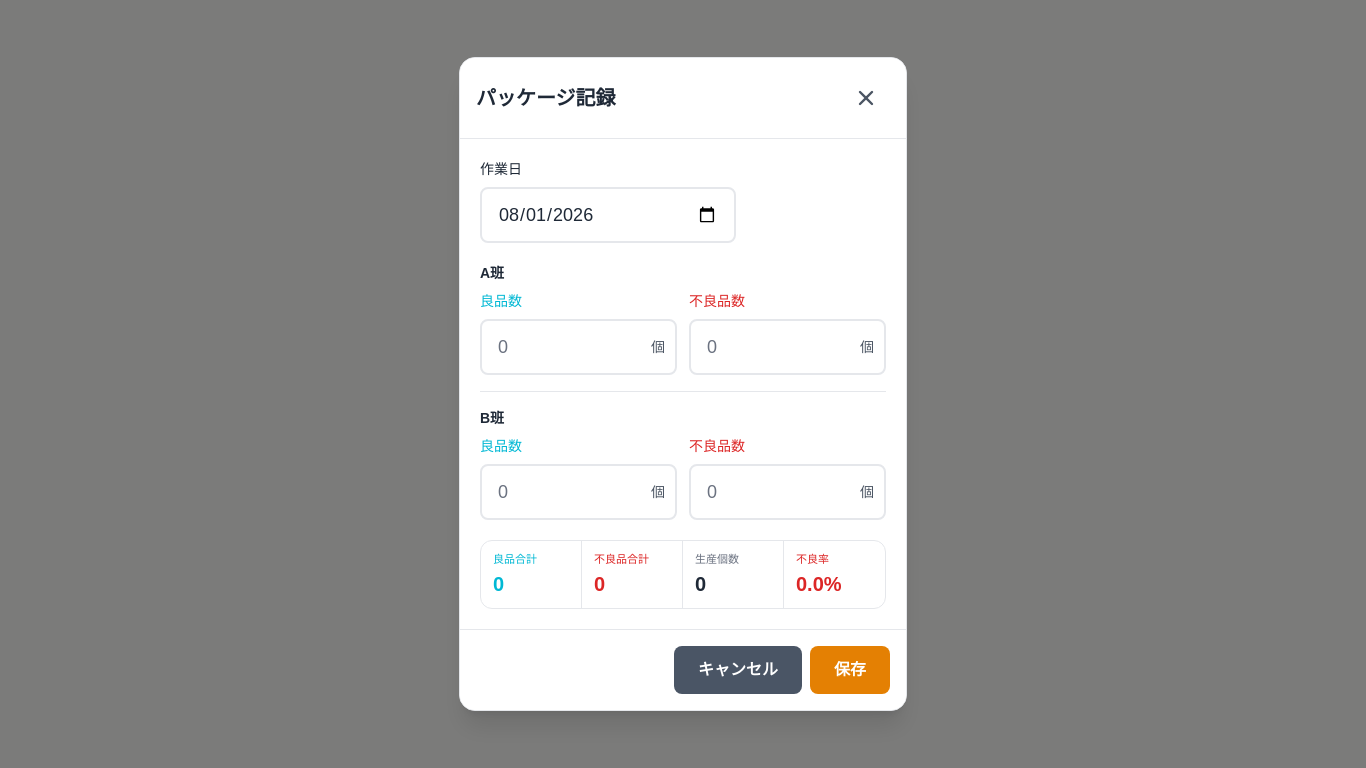
PackageEntryModal › 個数に負の値が入ると保存できずエラーを表示する
Type "-1" into the number field labelled "良品数" below "A班" at (578, 347), box [480,319,677,375]
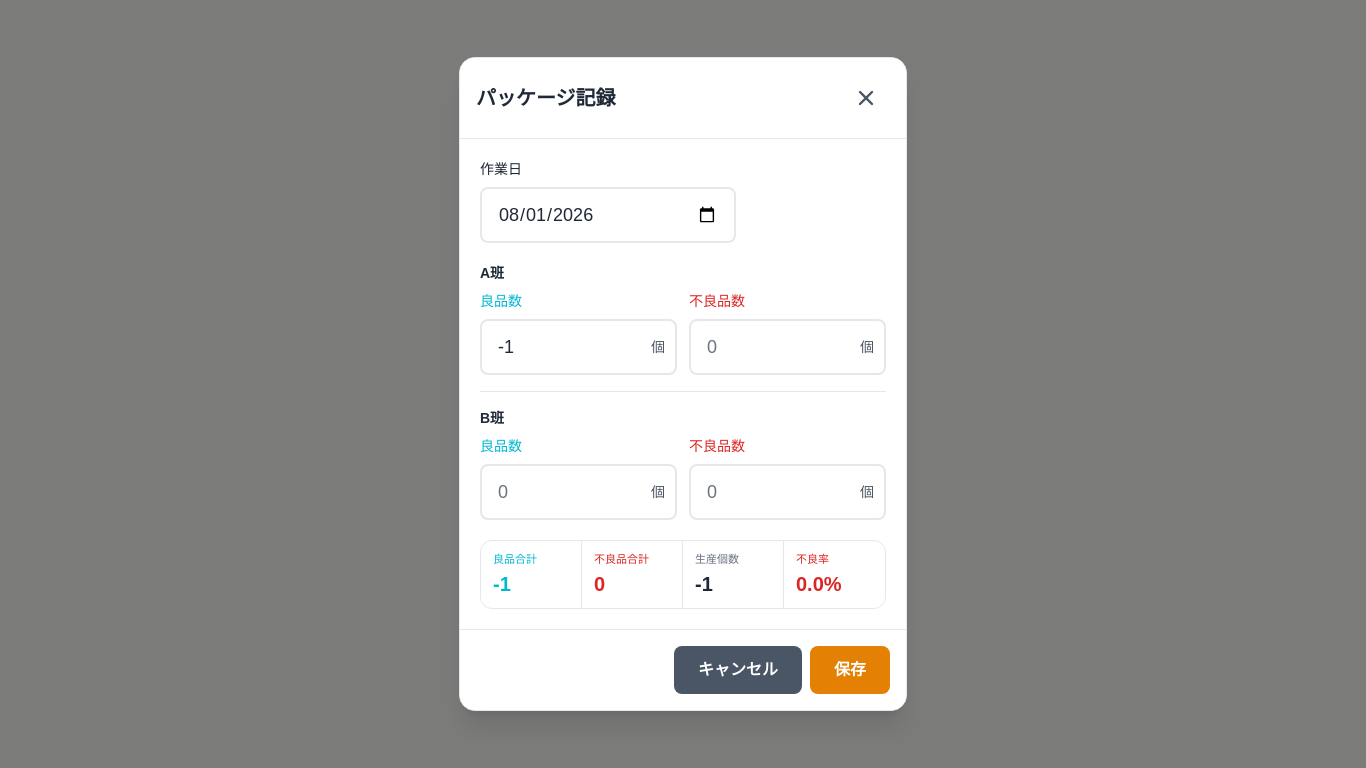
Click the button "保存" at (850, 670), box [810,646,890,694]
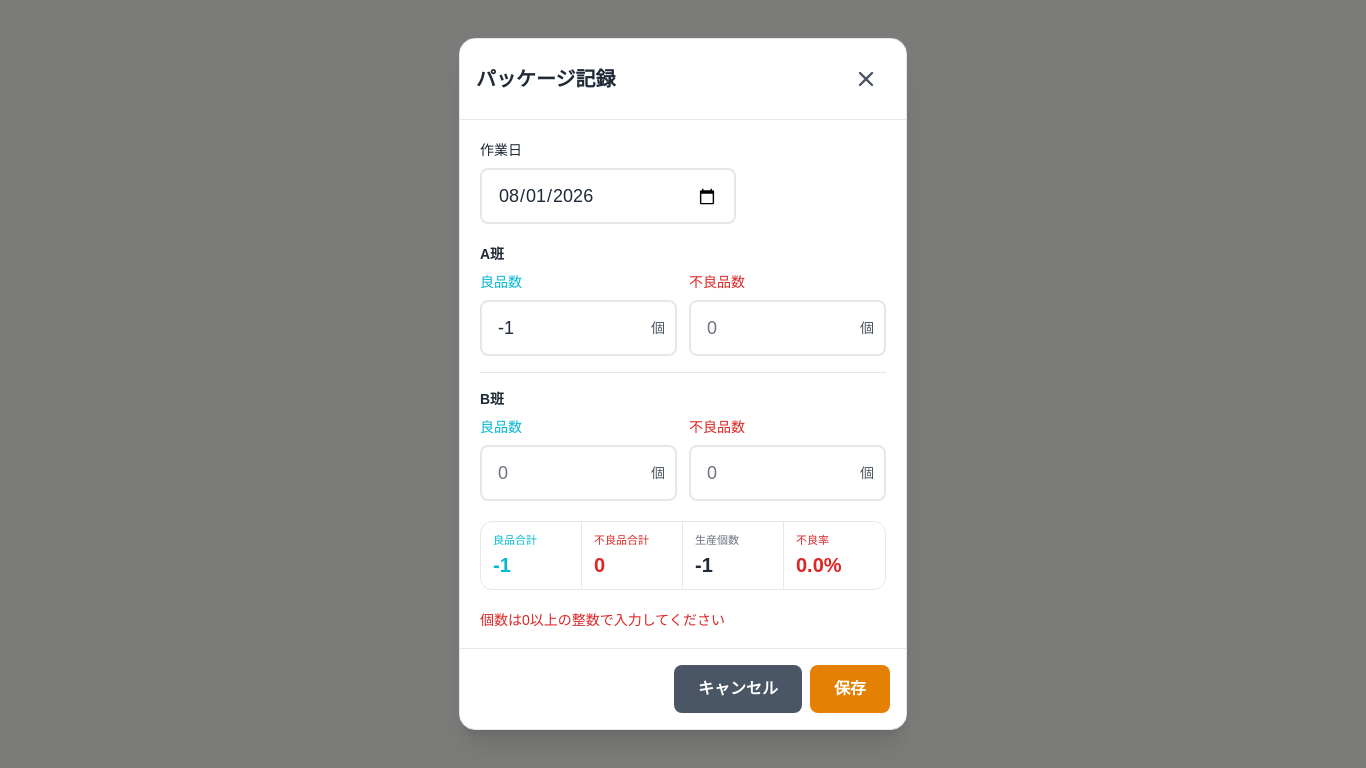
Now the message "個数は0以上の整数で入力してください" is shown, box [480,612,725,628]
